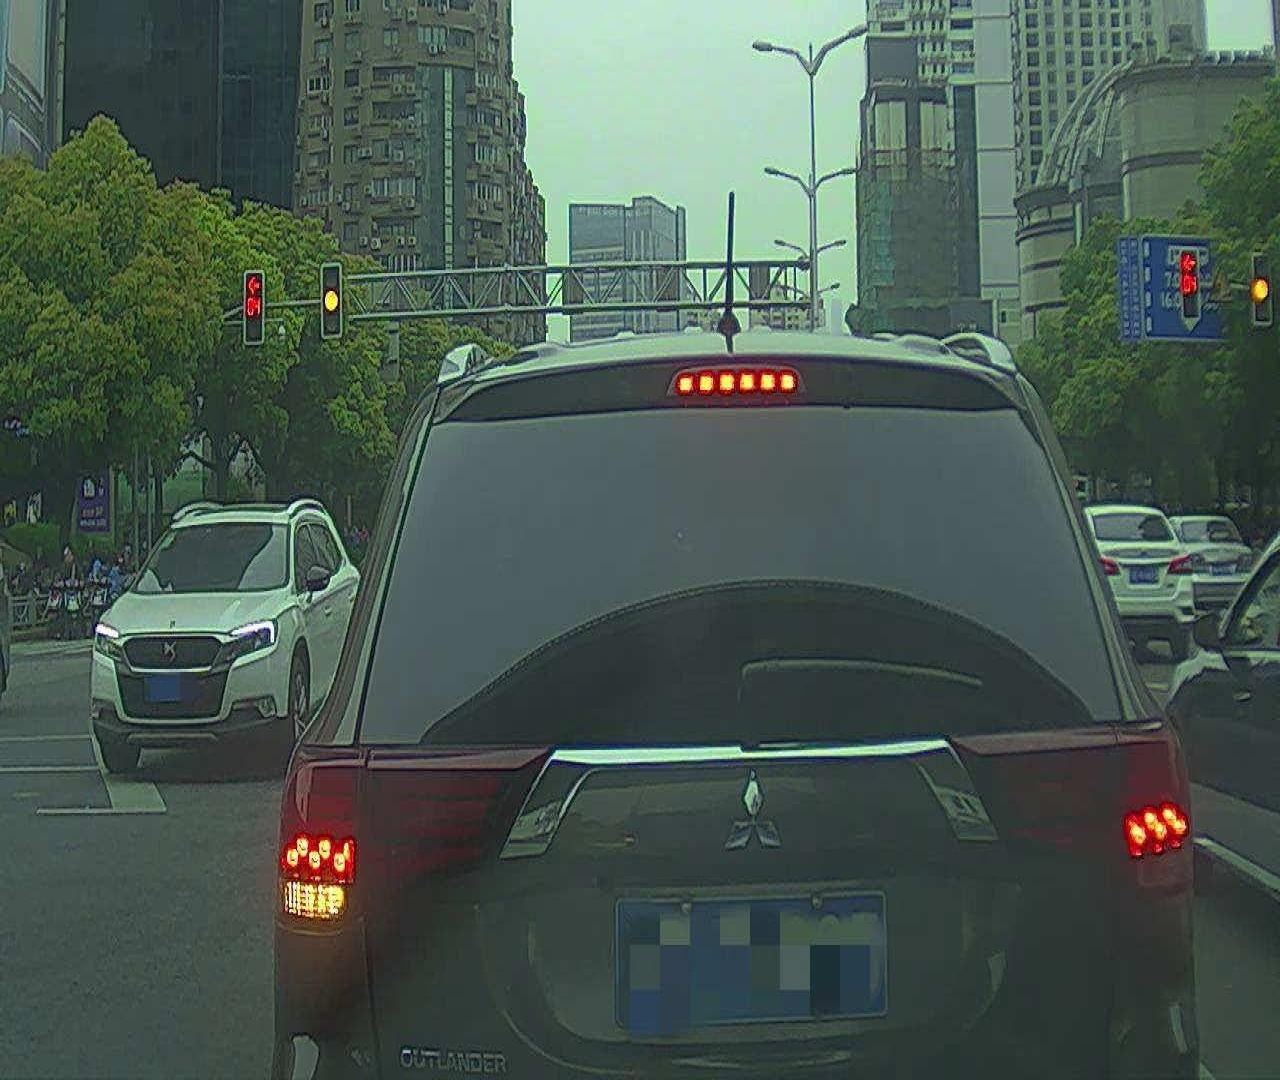red: (1178, 250, 1202, 327), (244, 271, 263, 343)
yellow: (319, 256, 348, 342), (1251, 250, 1275, 325)
